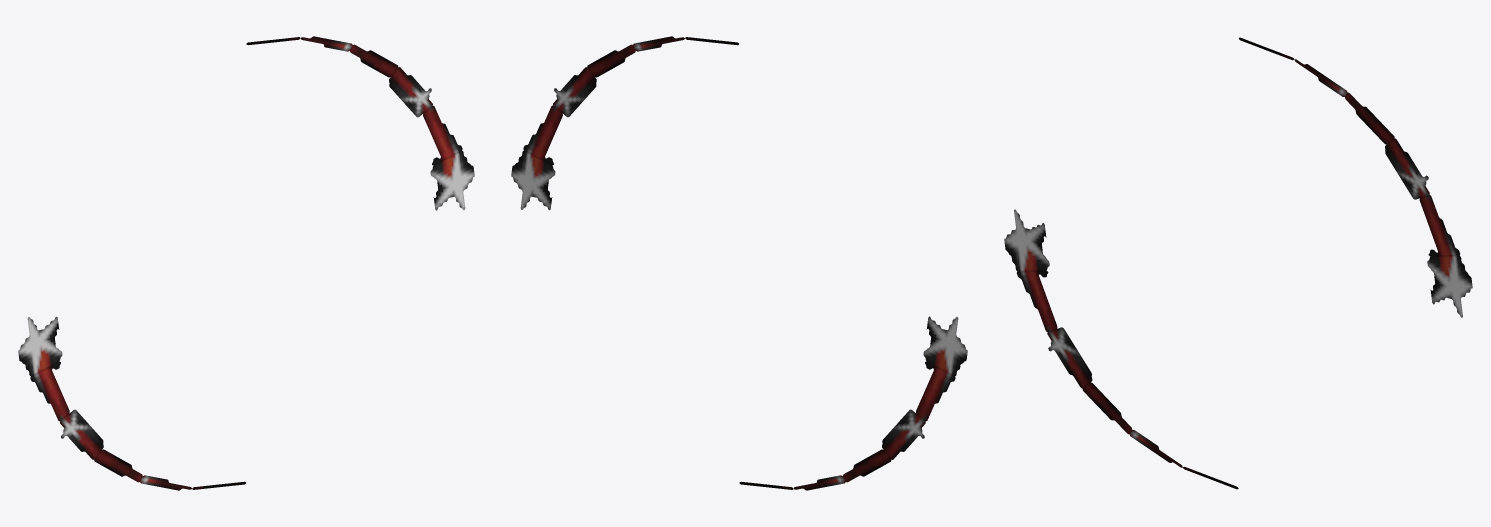
3 views of the same model, side by side, from view 1: azimuth 30°, elevation 25°; view 2: azimuth 150°, elevation 25°; view 3: azimuth 330°, elevation 25° (orthographic). The views are drawn at different scales.
Parts seen in each view (by area): view 1: T1L1M005_16; view 2: T1L1M005_16; view 3: T1L1M005_16.
Part boxes in pixels (bbox=[...]): T1L1M005_16: bbox=[18, 36, 474, 490]; T1L1M005_16: bbox=[511, 36, 967, 490]; T1L1M005_16: bbox=[1004, 37, 1472, 489].
Bounding box in the file's own units: 2.06 × 2.06 × 0.000977.
